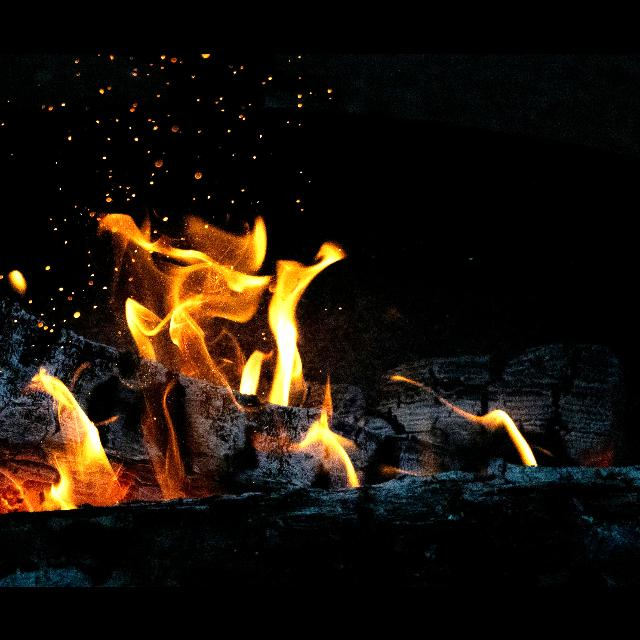fire: (100, 214, 345, 406), (298, 404, 360, 486)
